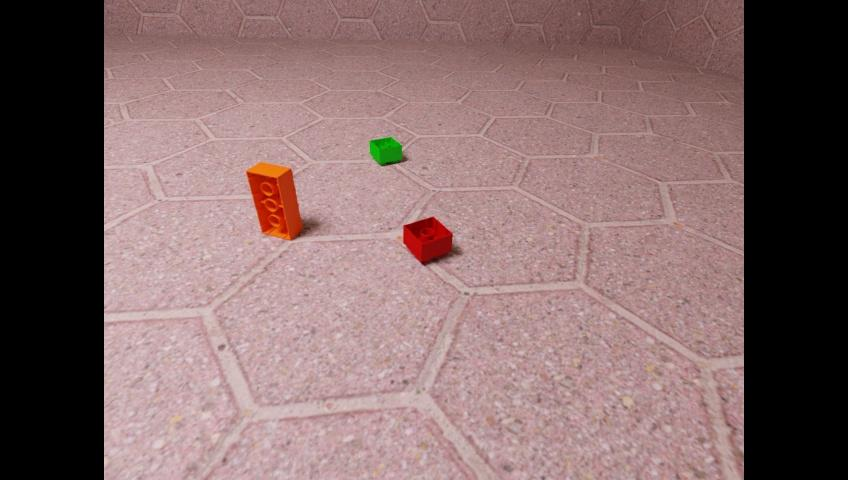2x2_green: (369, 136, 401, 164)
2x2_red: (403, 215, 452, 262)
4x2_orange: (245, 161, 302, 240)
